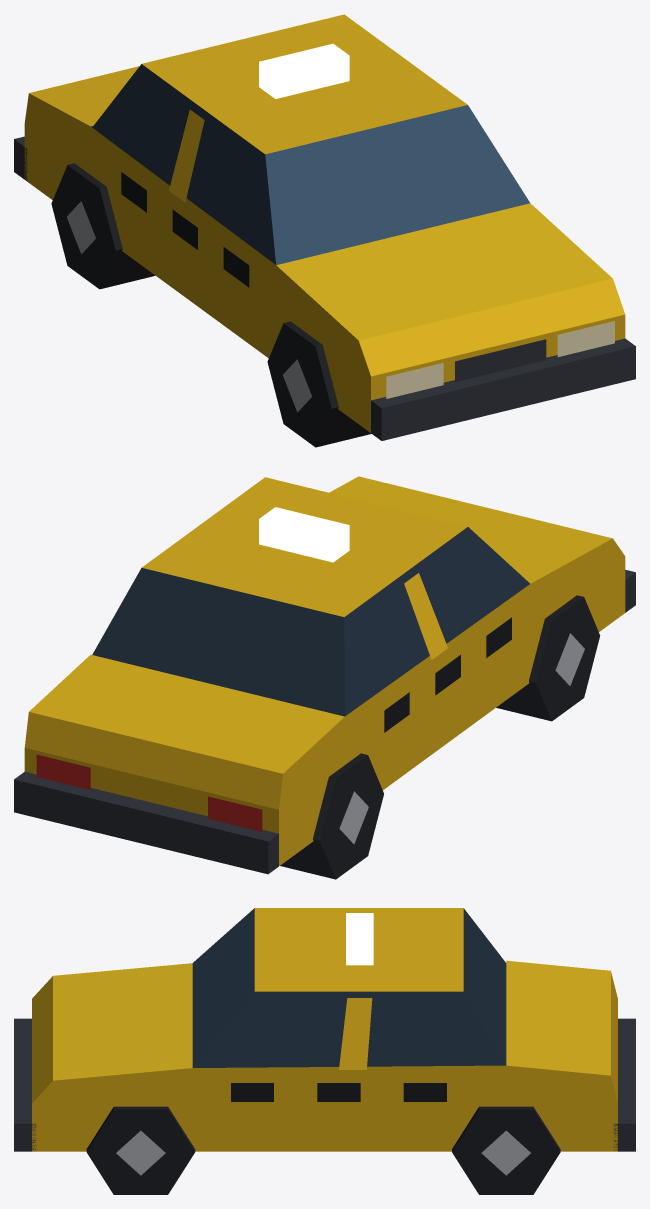
File: prop_car_taxi.glb
The picture shows the model from 3 angles, top to bottom: view 1: azimuth 30°, elevation 25°; view 2: azimuth 150°, elevation 25°; view 3: azimuth 270°, elevation 25°; orthographic projection. The views are drawn at different scales.
Parts seen in each view (by area): view 1: prop_car_taxi; view 2: prop_car_taxi; view 3: prop_car_taxi.
Part boxes in pixels (<box>): prop_car_taxi: <box>14,14,635,447</box>; prop_car_taxi: <box>14,476,635,879</box>; prop_car_taxi: <box>14,908,635,1194</box>.
Bounding box in the file's own units: 1.91 × 1.67 × 4.46.
